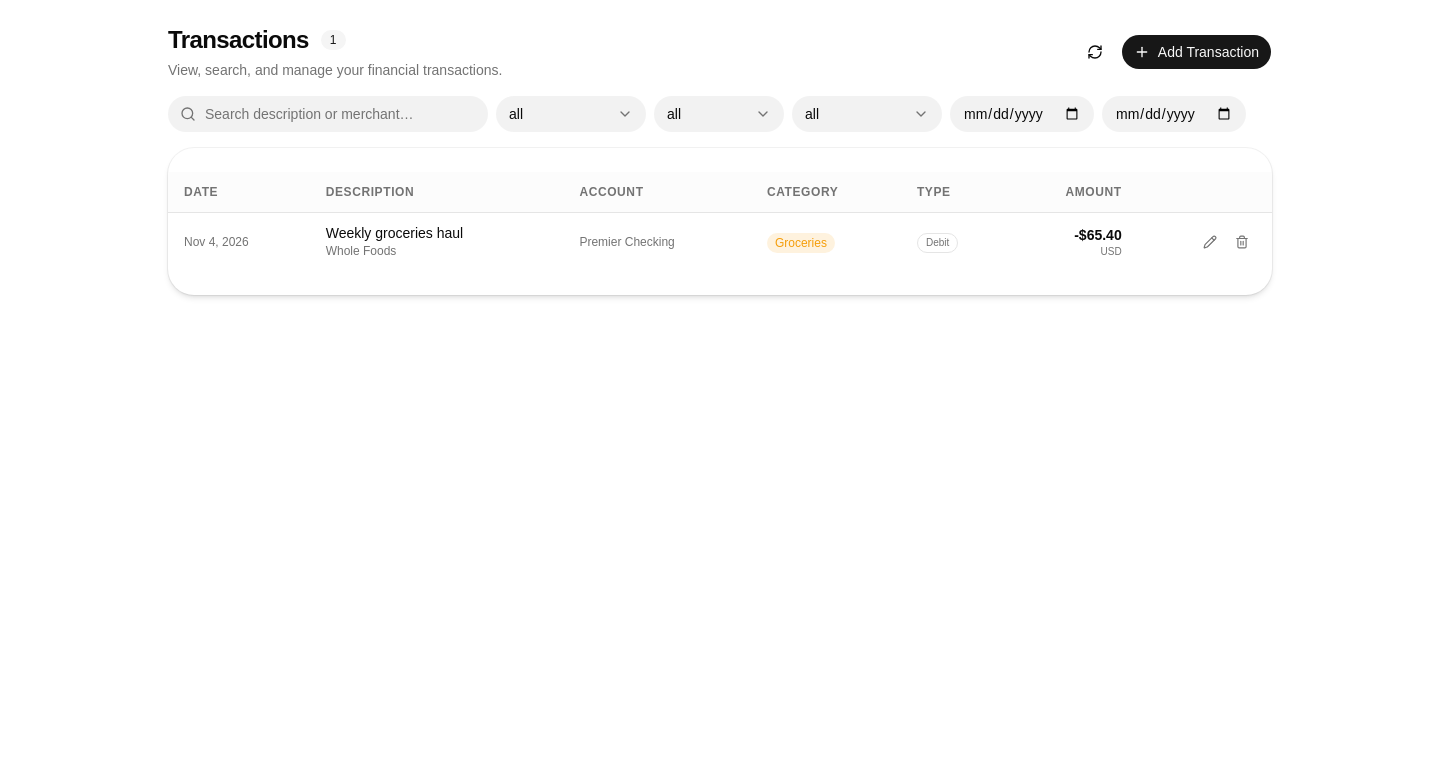
Test: TransactionsPage › 7. opens Edit Transaction sheet prefilled with existing transaction data
The width and height of the screenshot is (1440, 777).
Later steps or results of the test are not shown.
Click the button named "Edit Weekly groceries haul". click: {"x": 1210, "y": 242}
box: left=1196, top=228, right=1224, bottom=256
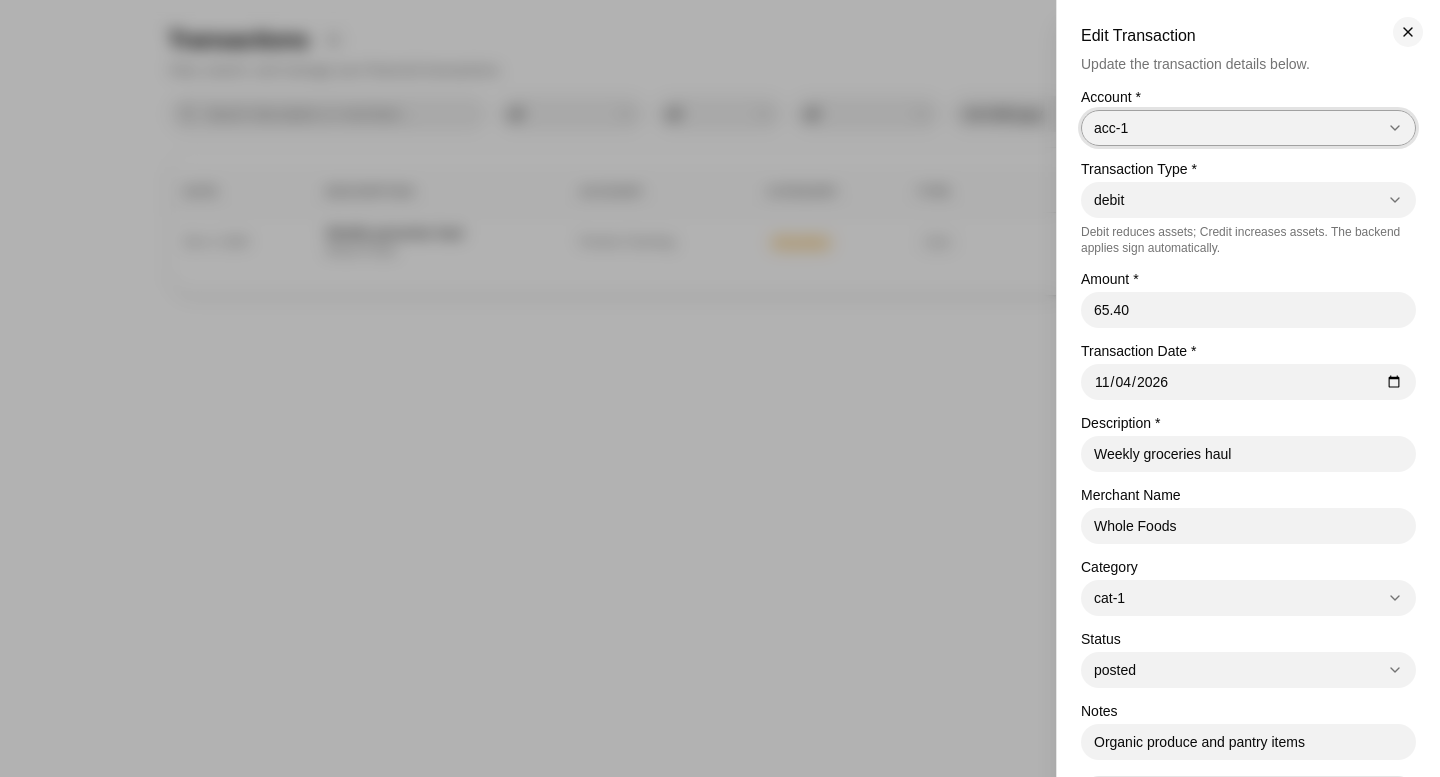
Expected: the heading "Edit Transaction" is shown, left=1081, top=27, right=1196, bottom=44
Expected: the field with test id "tx-description-input" holds "Weekly groceries haul", left=1081, top=436, right=1416, bottom=472
Expected: the number field with test id "tx-amount-input" holds "65.40", left=1081, top=292, right=1416, bottom=328
